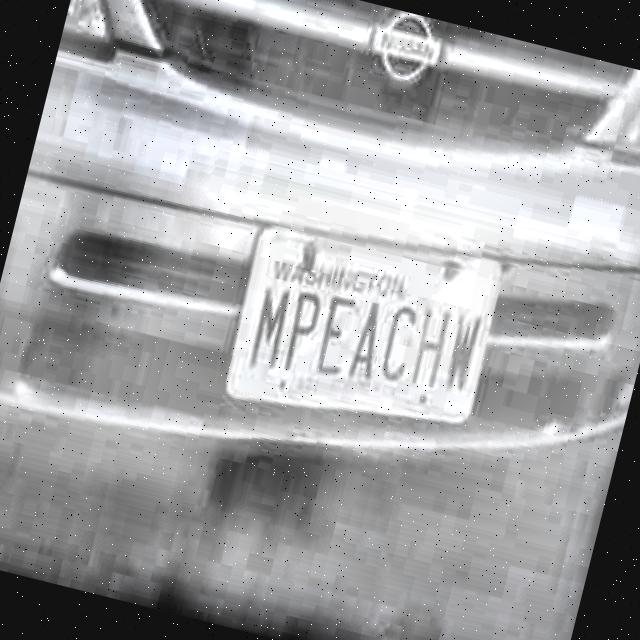license_plate: (228, 226, 499, 430)
